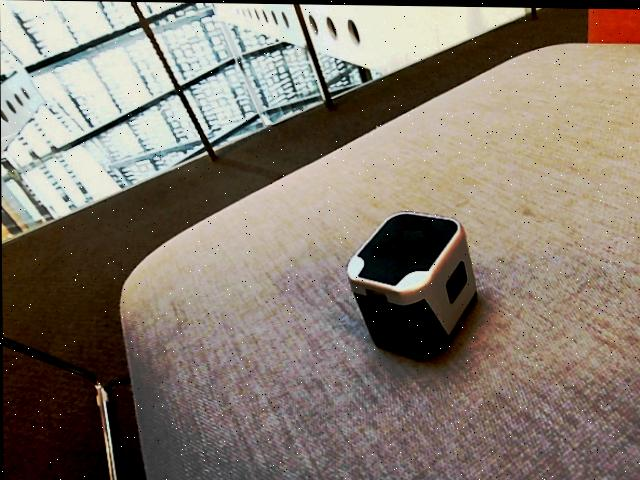adapter: (345, 209, 476, 359)
